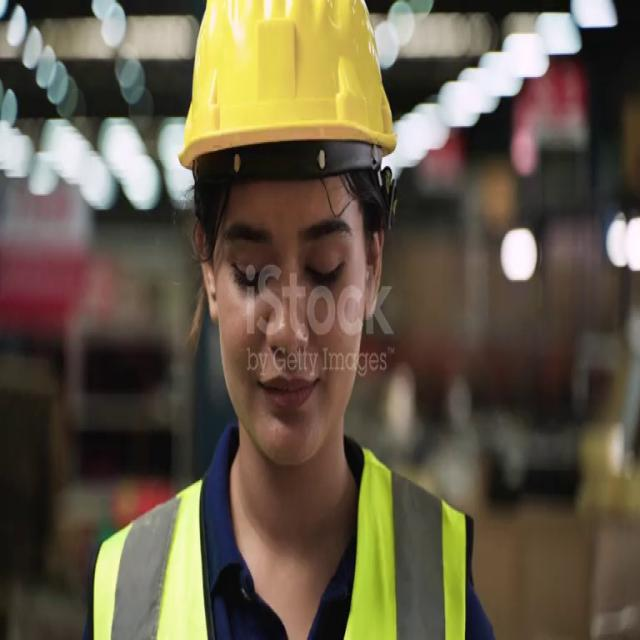capacete: (152, 0, 410, 233)
